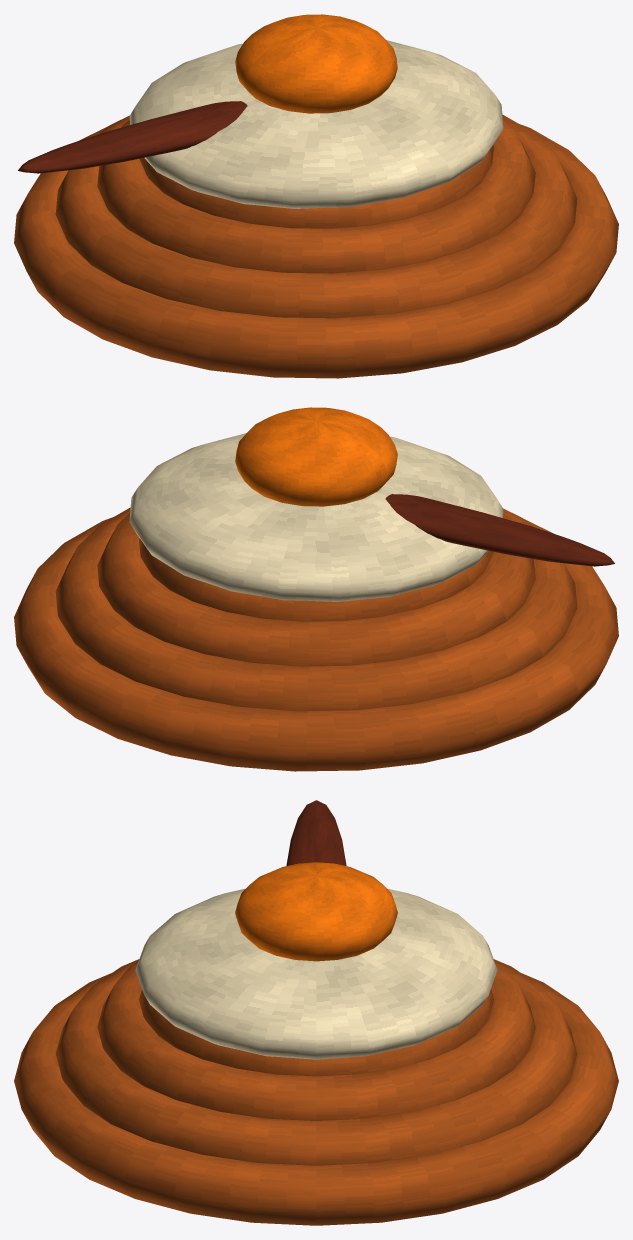
The model's file is bread_bacon_egg_pie.glb.
The picture shows the model from 3 angles, top to bottom: view 1: azimuth 30°, elevation 25°; view 2: azimuth 150°, elevation 25°; view 3: azimuth 270°, elevation 25°; orthographic projection.
Parts seen in each view (by area): view 1: パイ生地の渦巻き.012, フィリング.003, パイ生地の渦巻き.013, パイ生地の渦巻き.014, 目玉焼きの黄身, パイ生地の渦巻き.015, ベーコン; view 2: パイ生地の渦巻き.012, フィリング.003, パイ生地の渦巻き.013, パイ生地の渦巻き.014, 目玉焼きの黄身, パイ生地の渦巻き.015, ベーコン; view 3: パイ生地の渦巻き.012, フィリング.003, パイ生地の渦巻き.013, パイ生地の渦巻き.014, 目玉焼きの黄身, パイ生地の渦巻き.015, ベーコン.
Boxes of the visible parts, x1=… form: パイ生地の渦巻き.012: x1=14, y1=124, x2=618, y2=378; フィリング.003: x1=129, y1=40, x2=503, y2=208; パイ生地の渦巻き.013: x1=55, y1=114, x2=577, y2=318; パイ生地の渦巻き.014: x1=97, y1=119, x2=535, y2=273; 目玉焼きの黄身: x1=235, y1=14, x2=397, y2=113; パイ生地の渦巻き.015: x1=139, y1=145, x2=493, y2=228; ベーコン: x1=18, y1=101, x2=247, y2=173; パイ生地の渦巻き.012: x1=14, y1=517, x2=618, y2=771; フィリング.003: x1=129, y1=433, x2=503, y2=601; パイ生地の渦巻き.013: x1=55, y1=507, x2=577, y2=711; パイ生地の渦巻き.014: x1=97, y1=512, x2=535, y2=666; 目玉焼きの黄身: x1=235, y1=407, x2=397, y2=506; パイ生地の渦巻き.015: x1=139, y1=538, x2=493, y2=621; ベーコン: x1=385, y1=494, x2=614, y2=566; パイ生地の渦巻き.012: x1=14, y1=973, x2=618, y2=1225; フィリング.003: x1=135, y1=888, x2=497, y2=1059; パイ生地の渦巻き.013: x1=55, y1=959, x2=577, y2=1165; パイ生地の渦巻き.014: x1=97, y1=961, x2=535, y2=1120; 目玉焼きの黄身: x1=235, y1=862, x2=397, y2=961; パイ生地の渦巻き.015: x1=139, y1=989, x2=493, y2=1076; ベーコン: x1=286, y1=800, x2=346, y2=865.
Bounding box in the file's own units: 0.714 × 0.2831 × 0.668.
Materials: 4 (4 with a texture image).
